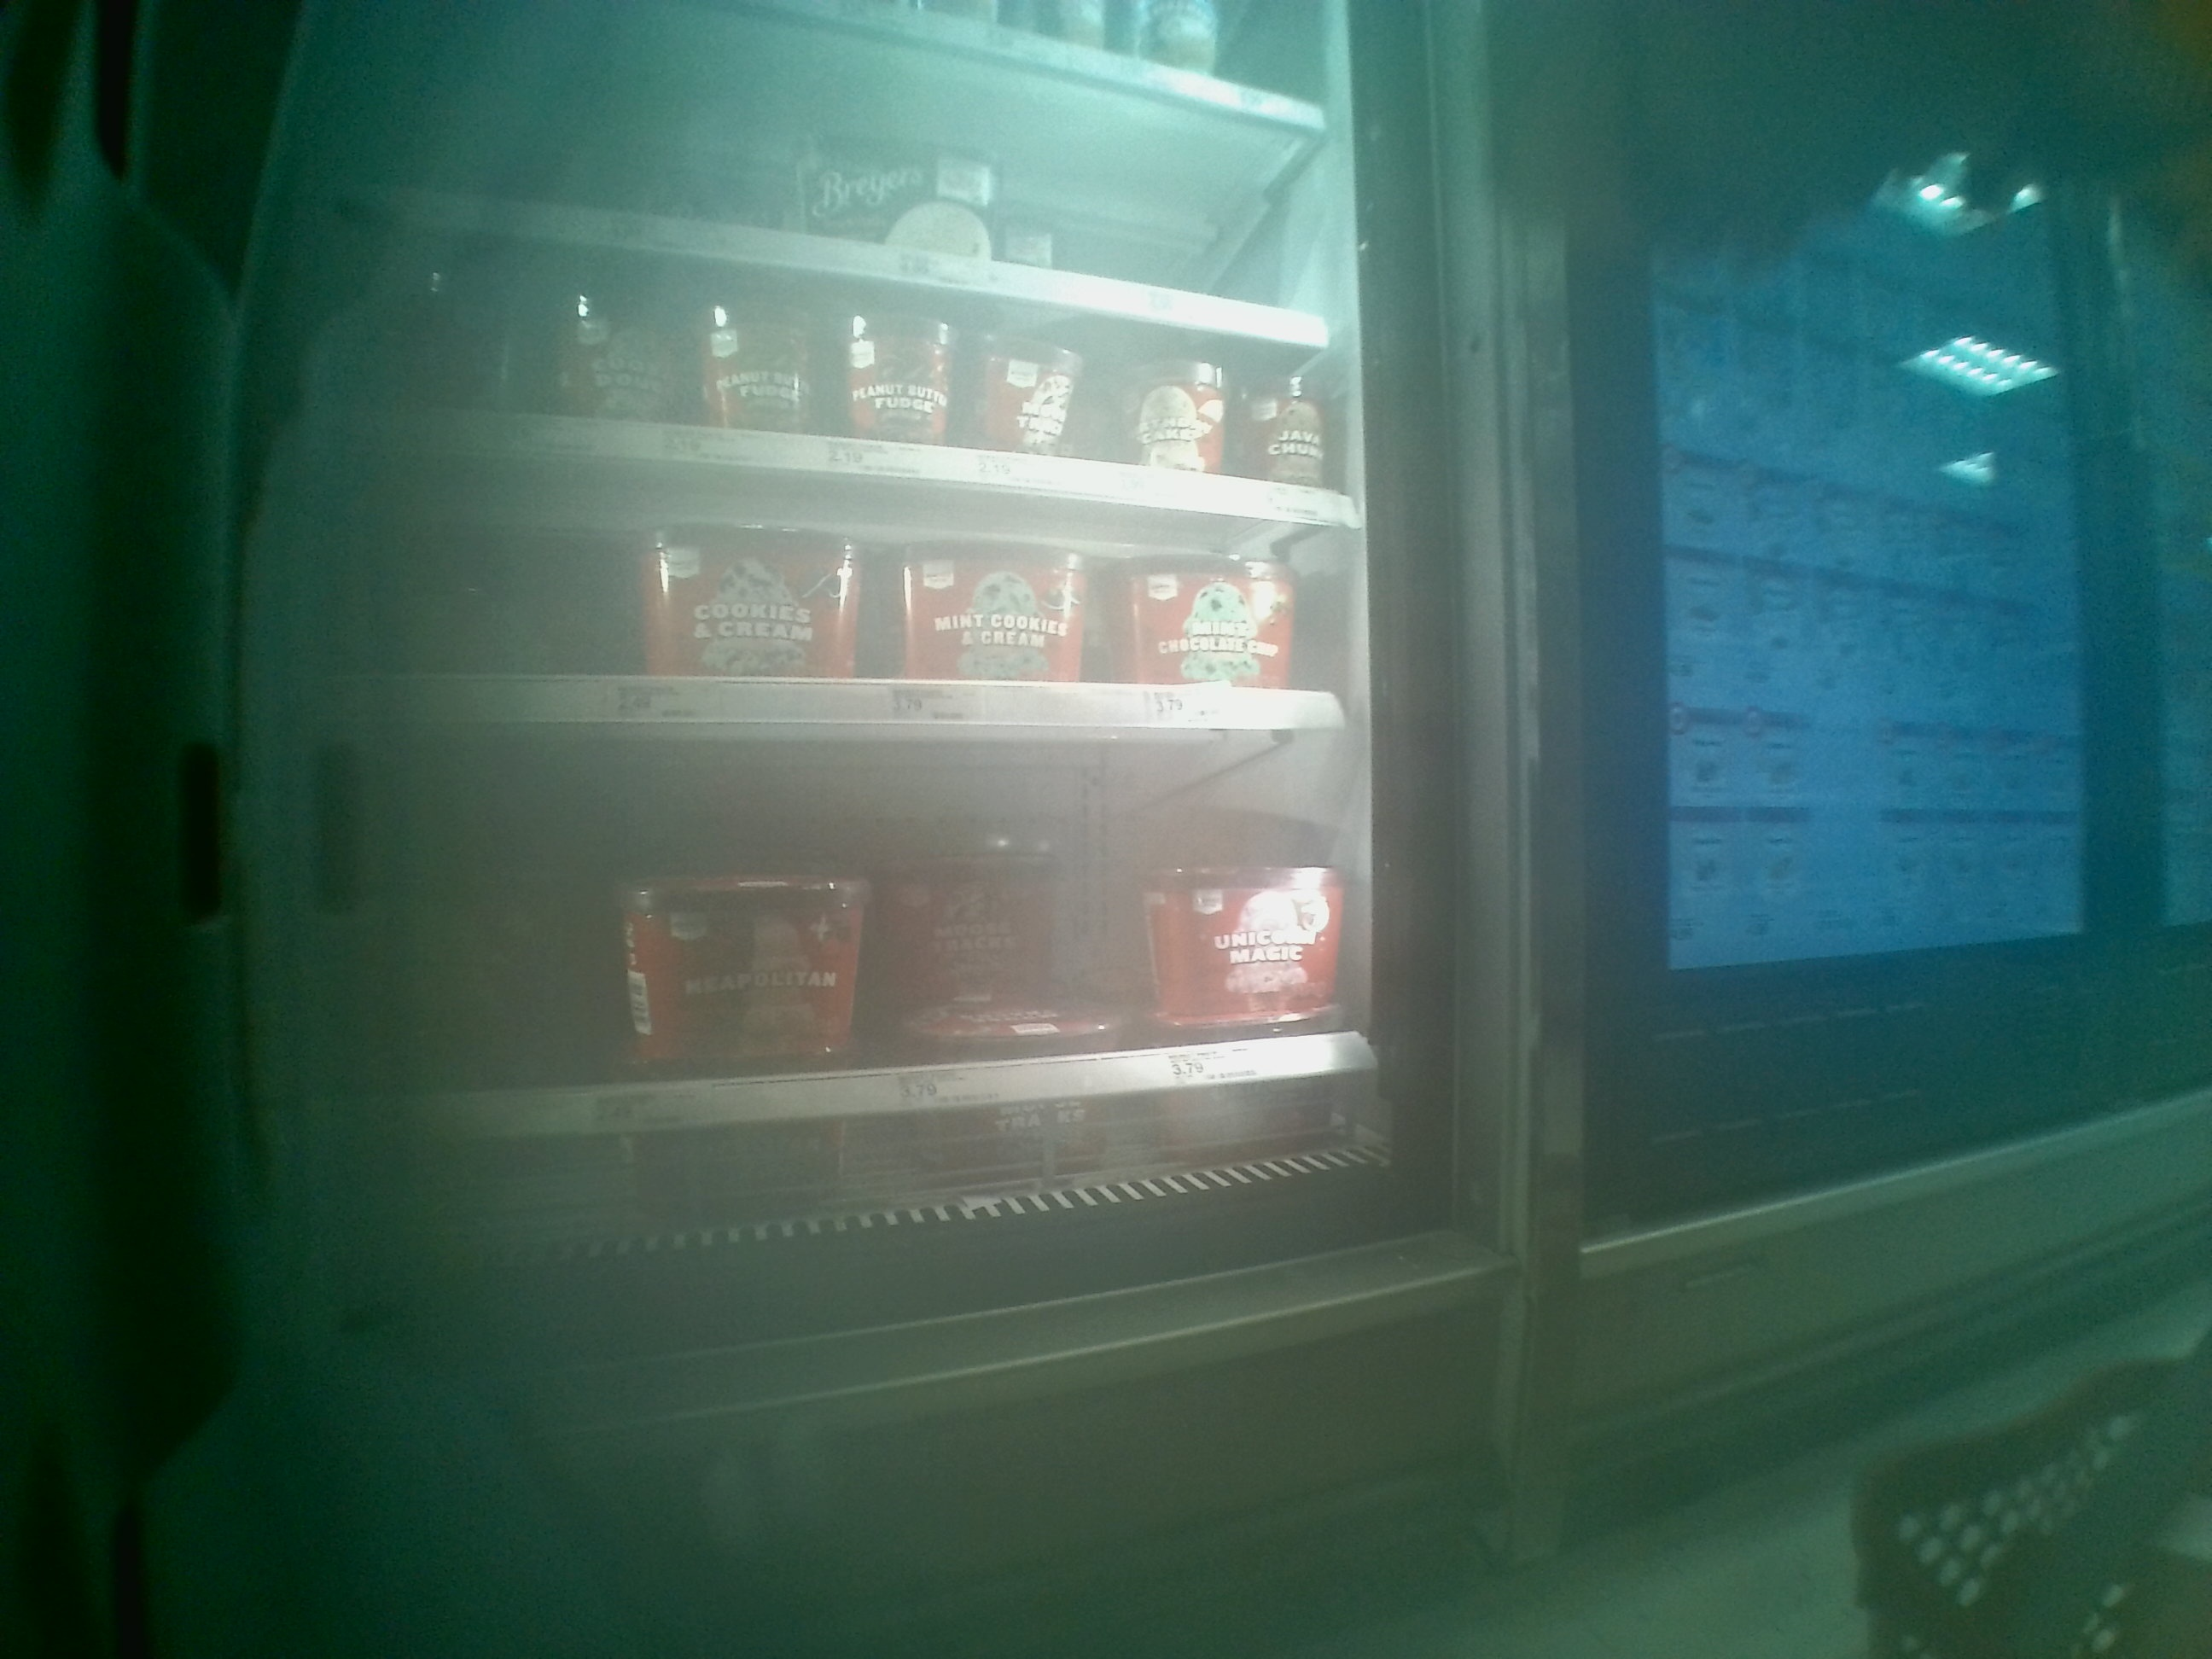shelf: (352, 751, 1362, 1141), (357, 453, 1346, 746)
